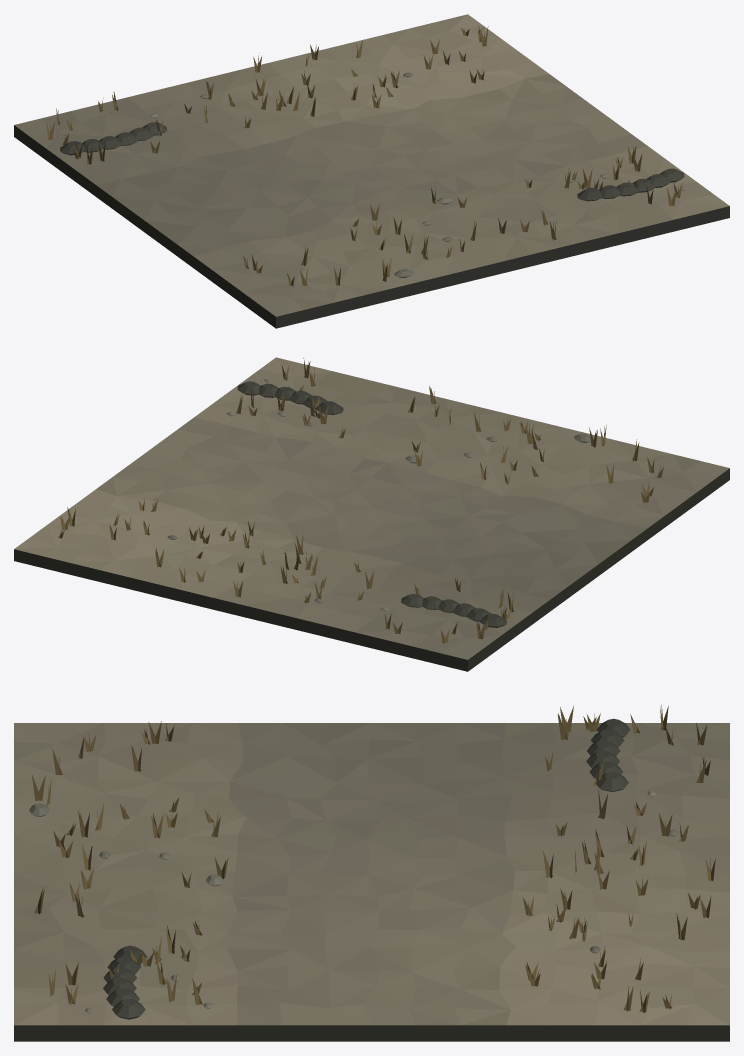
The model's file is CHUNK_TRANS_ash_grassland__glass_ash_desert__1.glb.
3 views of the same model, one above another, from view 1: azimuth 30°, elevation 25°; view 2: azimuth 150°, elevation 25°; view 3: azimuth 270°, elevation 25° (orthographic). The views are drawn at different scales.
Parts seen in each view (by area): view 1: CHUNK_TRANS_ash_grassland__glass_ash_desert__1; view 2: CHUNK_TRANS_ash_grassland__glass_ash_desert__1; view 3: CHUNK_TRANS_ash_grassland__glass_ash_desert__1.
Part boxes in pixels (x1,y1,x2,y2): CHUNK_TRANS_ash_grassland__glass_ash_desert__1: [14, 14, 729, 328]; CHUNK_TRANS_ash_grassland__glass_ash_desert__1: [14, 357, 729, 671]; CHUNK_TRANS_ash_grassland__glass_ash_desert__1: [14, 705, 729, 1041].
Size of the model in its own units: 8 by 0.5658 by 8.
